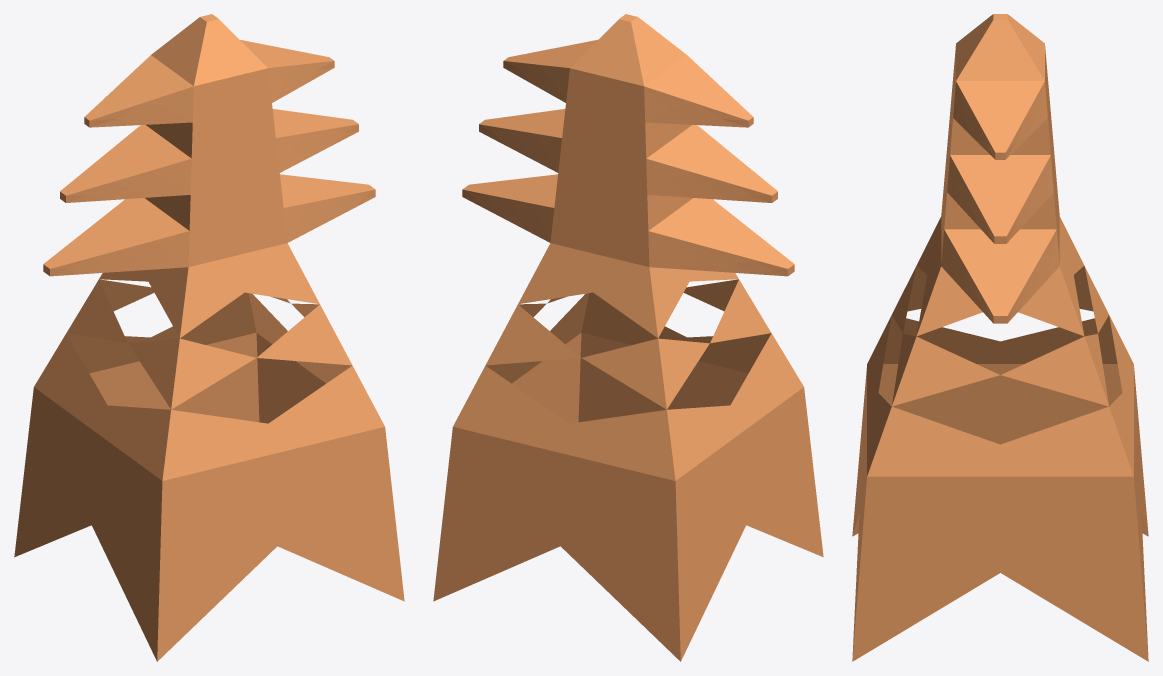
The model's file is ELECTRIC TOWER.gltf.
3 renders of one model, left to right at view 1: azimuth 30°, elevation 25°; view 2: azimuth 150°, elevation 25°; view 3: azimuth 270°, elevation 25°, orthographic. The views are drawn at different scales.
Visible parts, largest first — view 1: Cube; view 2: Cube; view 3: Cube.
Part boxes in pixels (left/top/right/bottom): Cube: left=14, top=14, right=404, bottom=661; Cube: left=433, top=14, right=823, bottom=661; Cube: left=852, top=14, right=1148, bottom=661.
Bounding box in the file's own units: 5.99 × 9.87 × 4.55.
